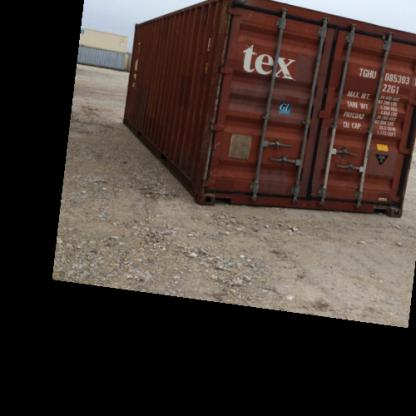Damage: (260, 163, 294, 203), (204, 166, 221, 191), (208, 138, 226, 156)
